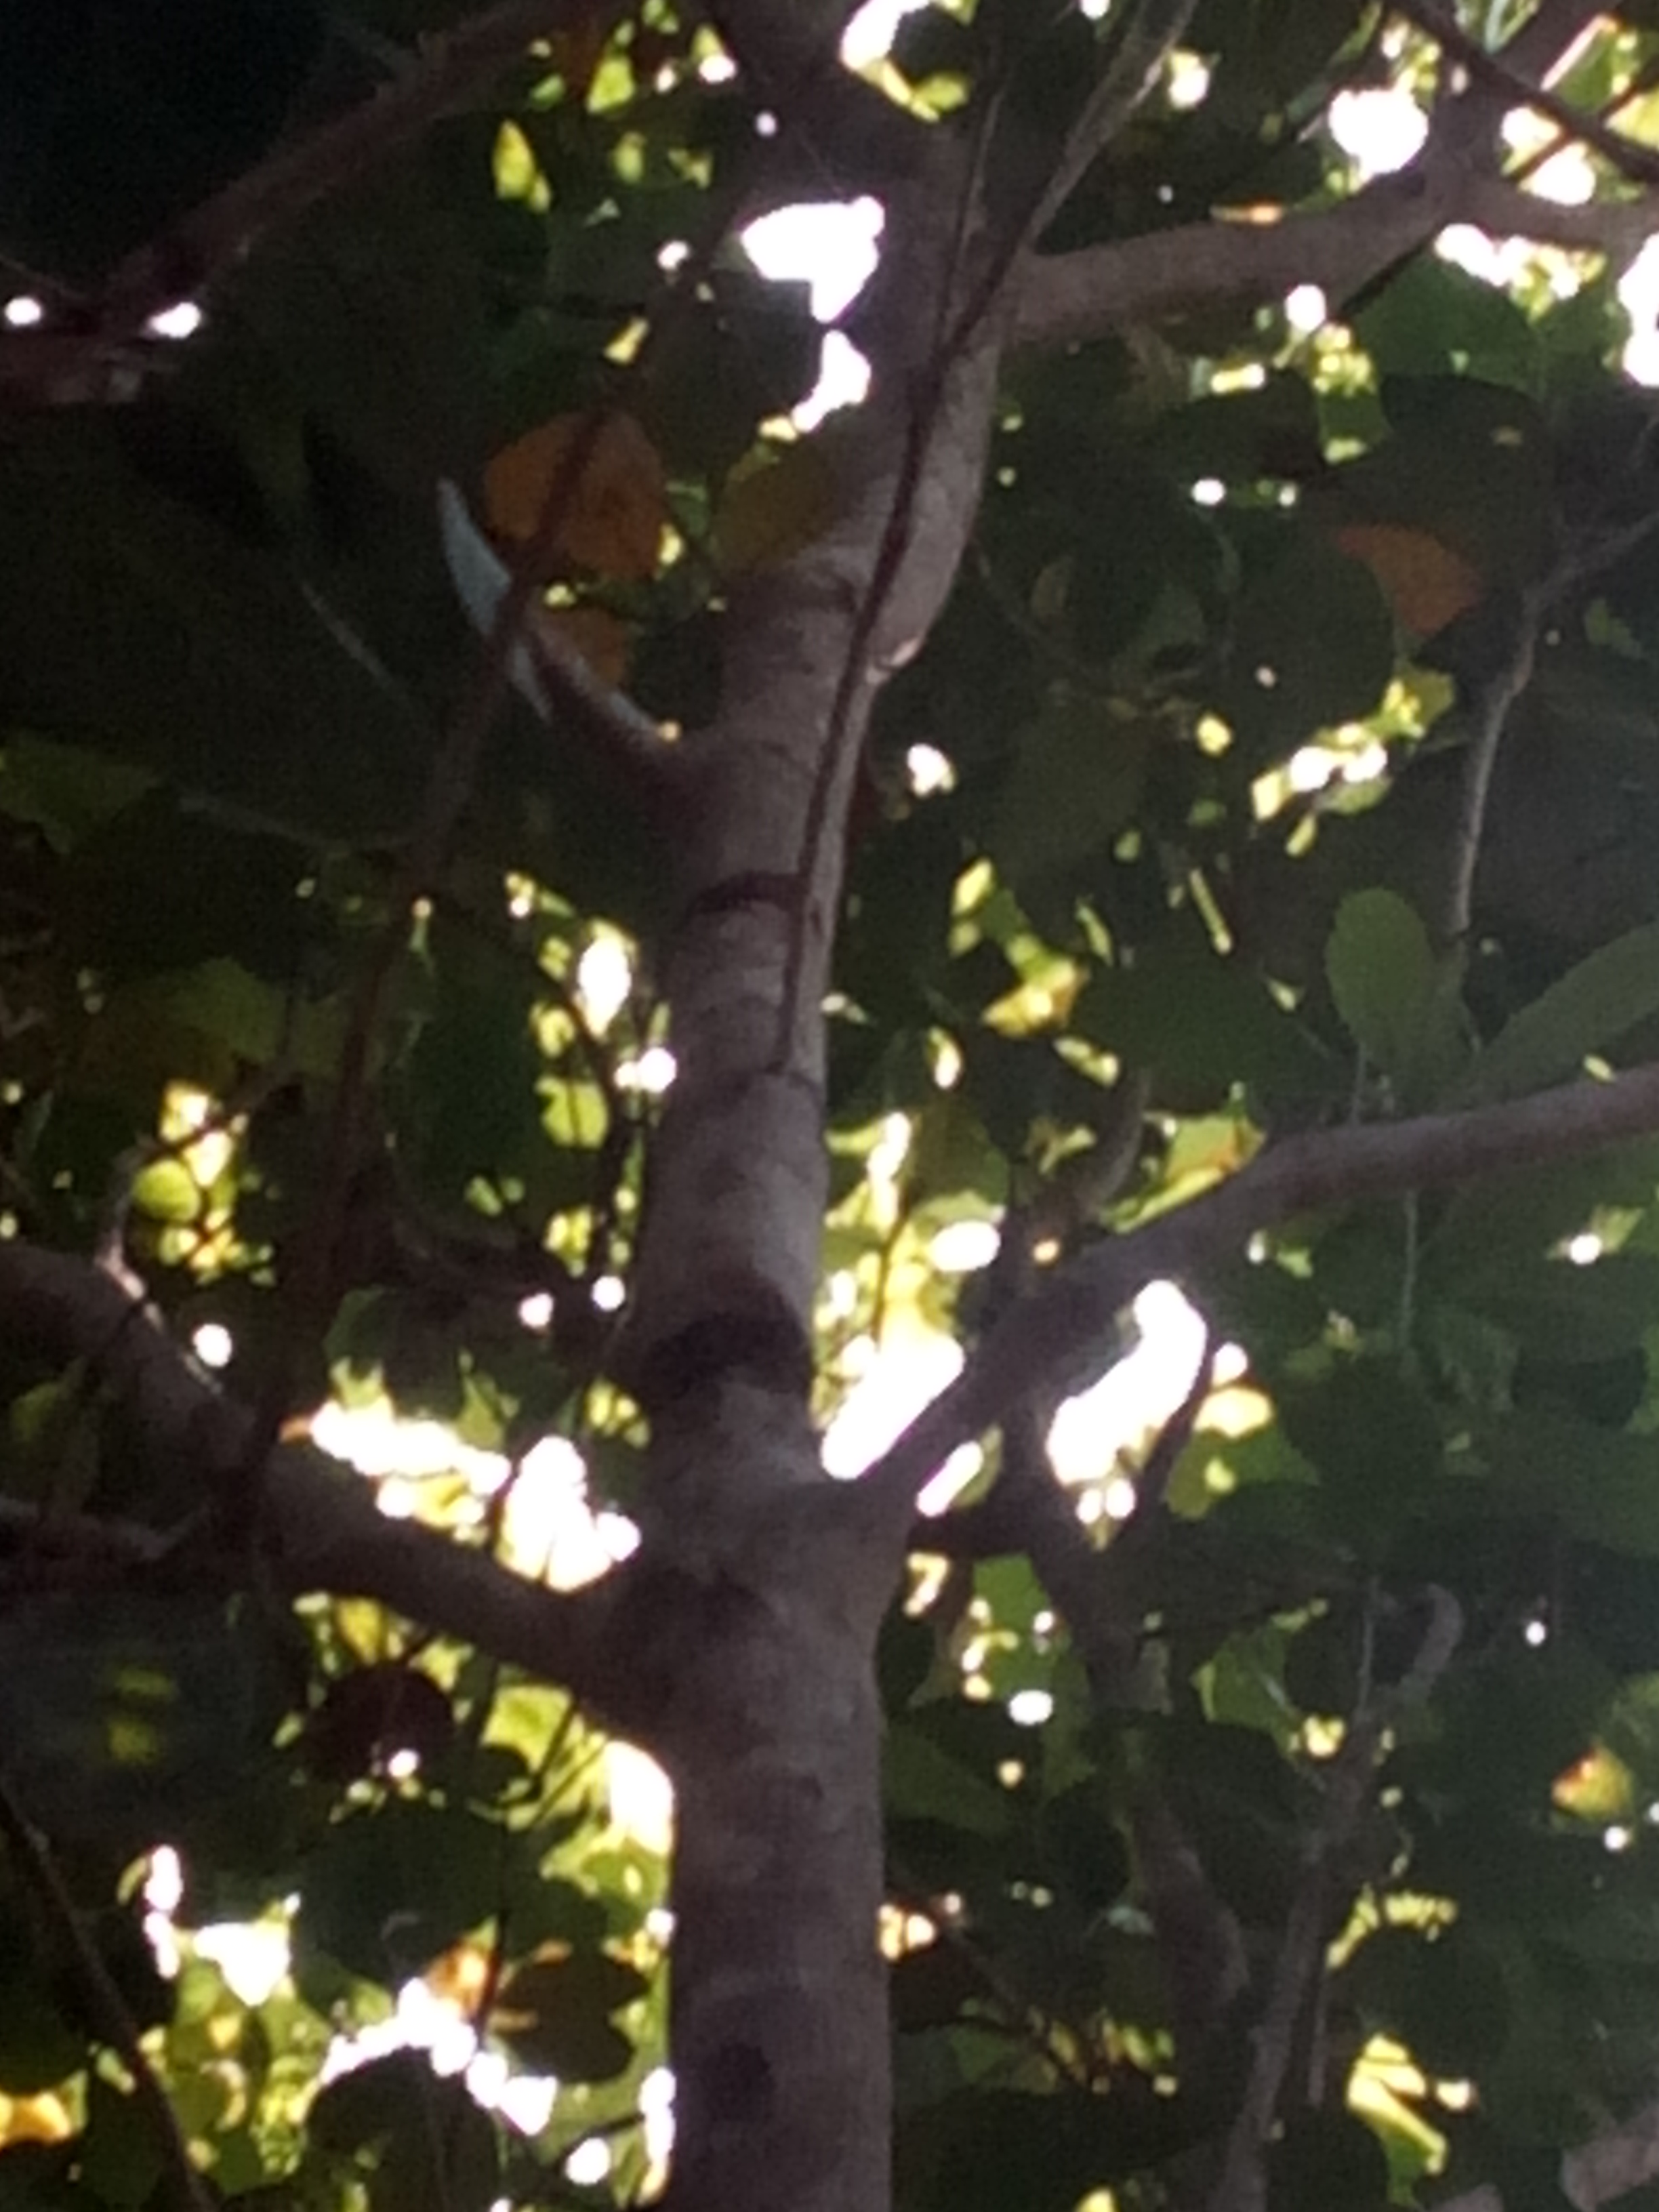Analepse trifasciata: (545, 1285, 870, 1468)
